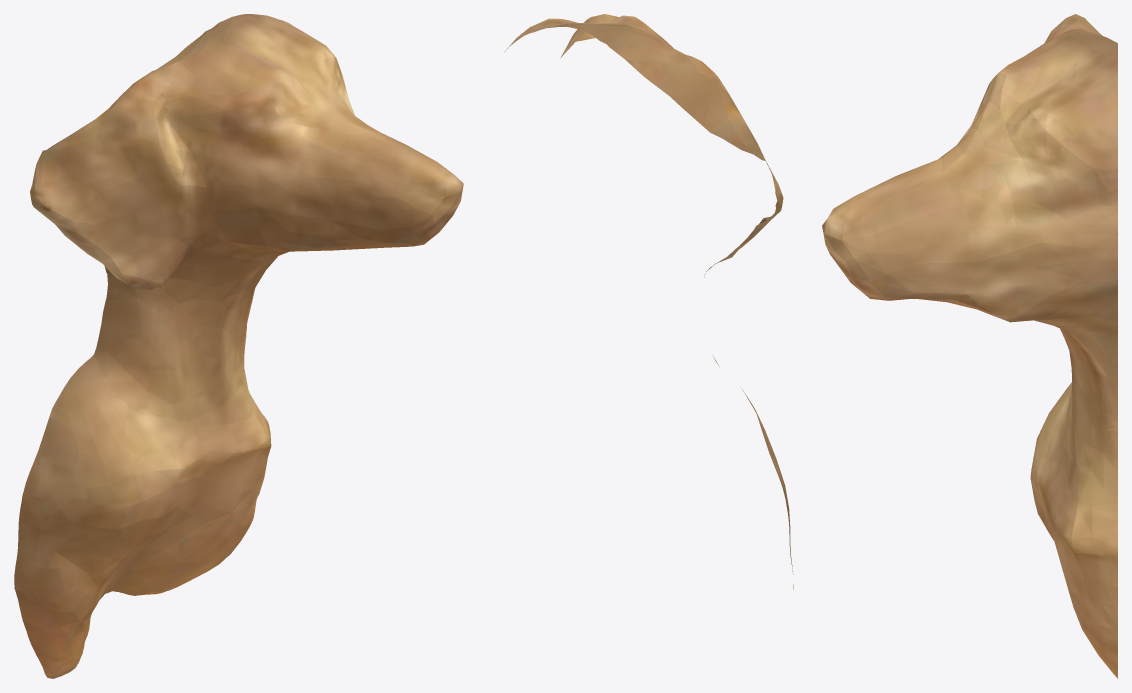
3 views of the same model, side by side, from view 1: azimuth 30°, elevation 25°; view 2: azimuth 150°, elevation 25°; view 3: azimuth 270°, elevation 25° (orthographic). The views are drawn at different scales.
Visible parts, largest first — view 1: tmp.o.228; view 2: tmp.o.228; view 3: tmp.o.228.
Boxes of the visible parts, <box> form: tmp.o.228: <box>14,14,463,678</box>; tmp.o.228: <box>504,14,793,589</box>; tmp.o.228: <box>822,14,1117,678</box>.
Size of the model in its own units: 0.1135 by 0.201 by 0.0744.
Materials: 1 (1 with a texture image).
